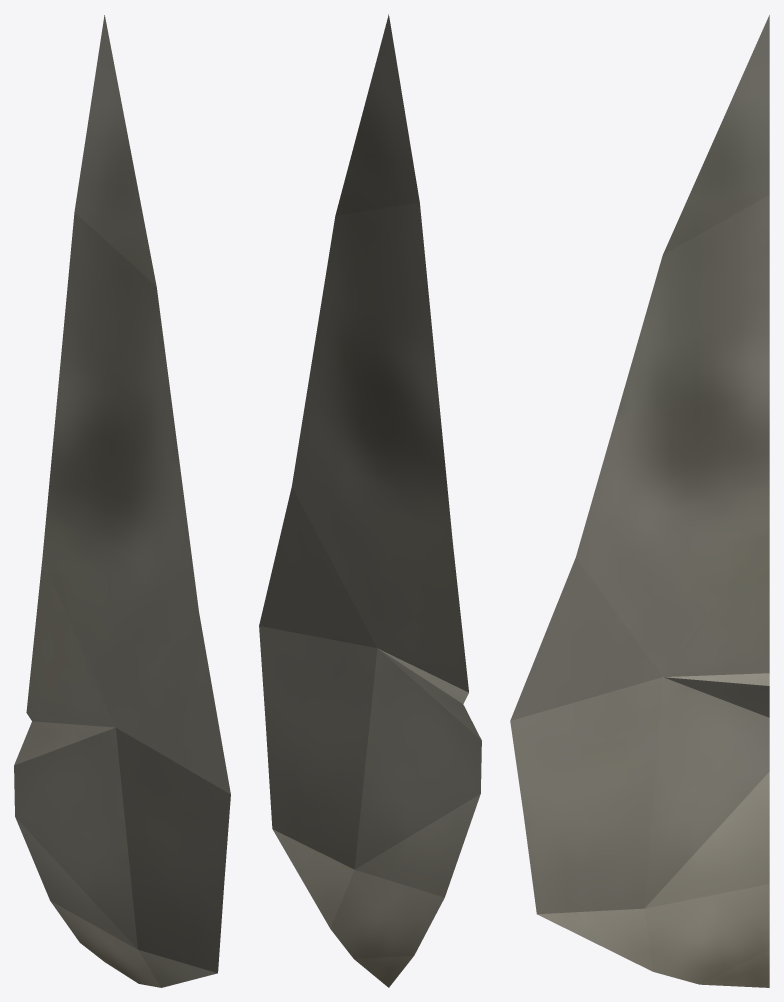
The picture shows the model from 3 angles, left to right: view 1: azimuth 30°, elevation 25°; view 2: azimuth 210°, elevation 25°; view 3: azimuth 270°, elevation 25°; orthographic projection. The views are drawn at different scales.
Size of the model in its own units: 0.0485 by 0.4849 by 0.1171.
Materials: 1 (1 with a texture image).
